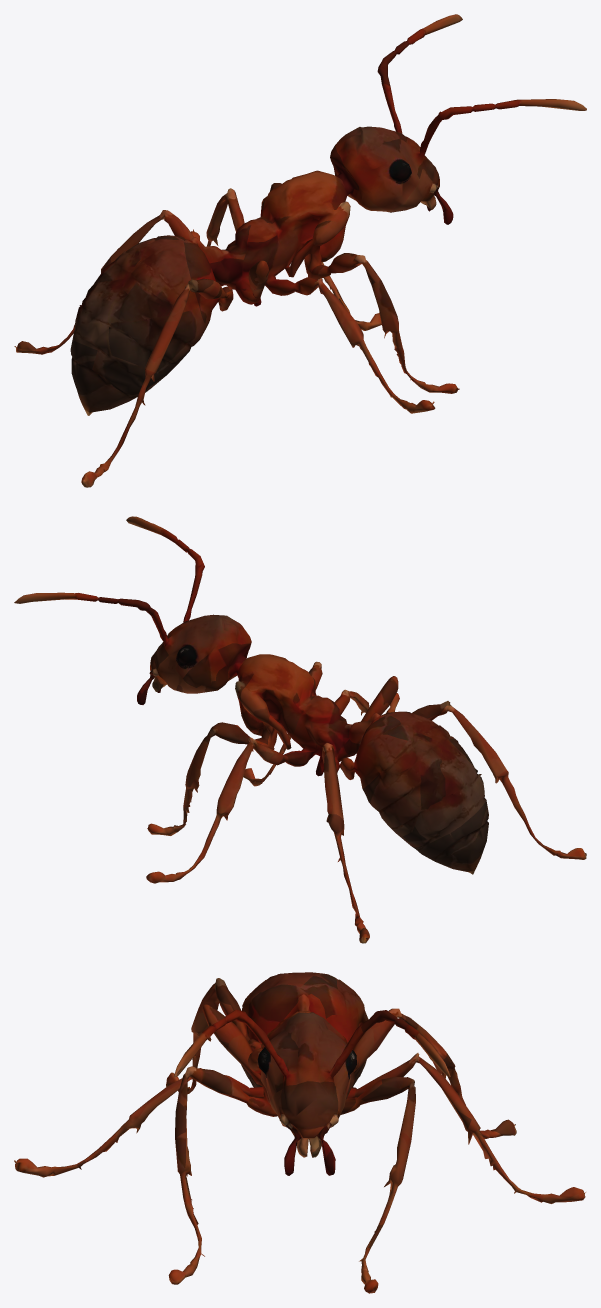
Rendered from close.glb.
3 renders of one model, top to bottom at view 1: azimuth 30°, elevation 25°; view 2: azimuth 150°, elevation 25°; view 3: azimuth 270°, elevation 25°, orthographic. The views are drawn at different scales.
Parts seen in each view (by area): view 1: node_a02923fe-255e-4d86-a709-2e120b1daf05; view 2: node_a02923fe-255e-4d86-a709-2e120b1daf05; view 3: node_a02923fe-255e-4d86-a709-2e120b1daf05.
Part boxes in pixels (<box>): node_a02923fe-255e-4d86-a709-2e120b1daf05: <box>14,14,586,487</box>; node_a02923fe-255e-4d86-a709-2e120b1daf05: <box>14,516,586,943</box>; node_a02923fe-255e-4d86-a709-2e120b1daf05: <box>14,972,585,1293</box>.
Size of the model in its own units: 0.2743 by 0.1386 by 0.2421.
Materials: 1 (1 with a texture image).
